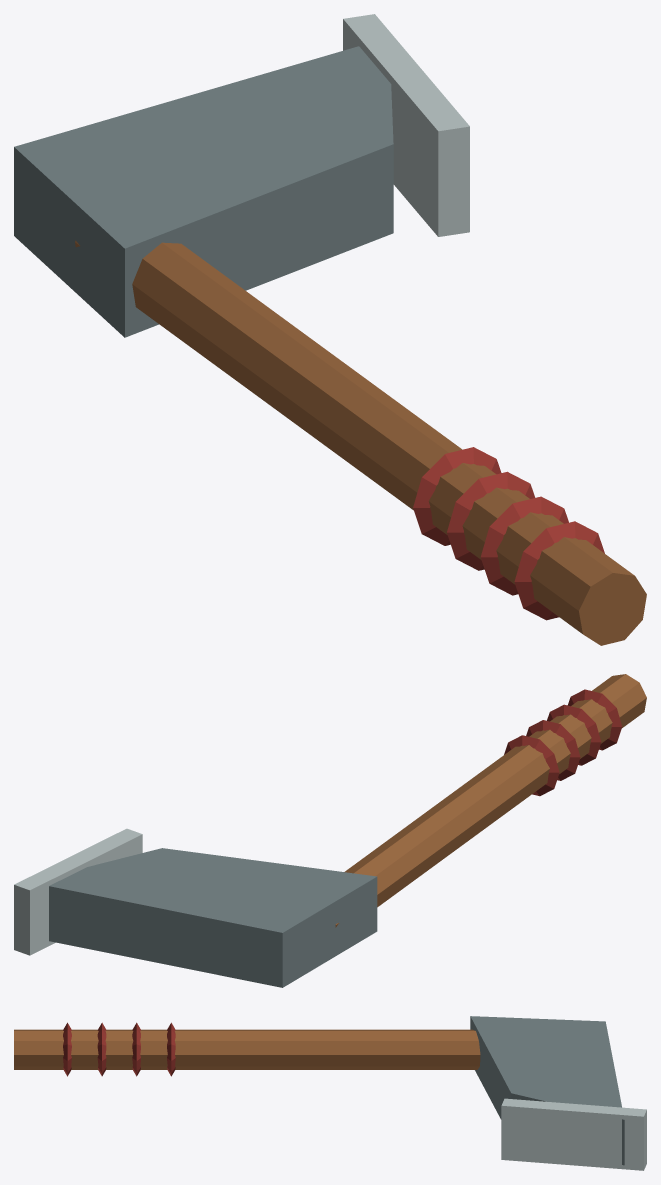
Rendered from axe.glb.
3 views of the same model, one above another, from view 1: azimuth 30°, elevation 25°; view 2: azimuth 150°, elevation 25°; view 3: azimuth 270°, elevation 25° (orthographic). The views are drawn at different scales.
Visible parts, largest first — view 1: AxeHead, AxeHandle, AxeEdge, AxeGripWrap0, AxeGripWrap3, AxeGripWrap1, AxeGripWrap2; view 2: AxeHead, AxeHandle, AxeEdge, AxeGripWrap3, AxeGripWrap0, AxeGripWrap1, AxeGripWrap2; view 3: AxeHandle, AxeHead, AxeEdge, AxeGripWrap1, AxeGripWrap0, AxeGripWrap3, AxeGripWrap2.
Boxes of the visible parts, x1,y1,x2,y2 form: AxeHead: (14, 46, 393, 337); AxeHandle: (75, 240, 646, 645); AxeEdge: (343, 14, 469, 236); AxeGripWrap0: (514, 521, 604, 620); AxeGripWrap3: (413, 447, 501, 545); AxeGripWrap1: (480, 496, 568, 595); AxeGripWrap2: (447, 471, 535, 570); AxeHead: (49, 848, 377, 987); AxeHandle: (335, 674, 646, 927); AxeEdge: (14, 828, 142, 955); AxeGripWrap3: (504, 735, 559, 796); AxeGripWrap0: (567, 689, 622, 750); AxeGripWrap1: (547, 704, 601, 765); AxeGripWrap2: (526, 720, 580, 780); AxeHandle: (14, 1029, 480, 1069); AxeHead: (470, 1016, 624, 1165); AxeEdge: (501, 1098, 646, 1170); AxeGripWrap1: (97, 1022, 106, 1076); AxeGripWrap0: (63, 1022, 71, 1076); AxeGripWrap3: (167, 1022, 175, 1076); AxeGripWrap2: (132, 1022, 140, 1076).
Size of the model in its own units: 0.7952 by 0.19 by 2.01.
